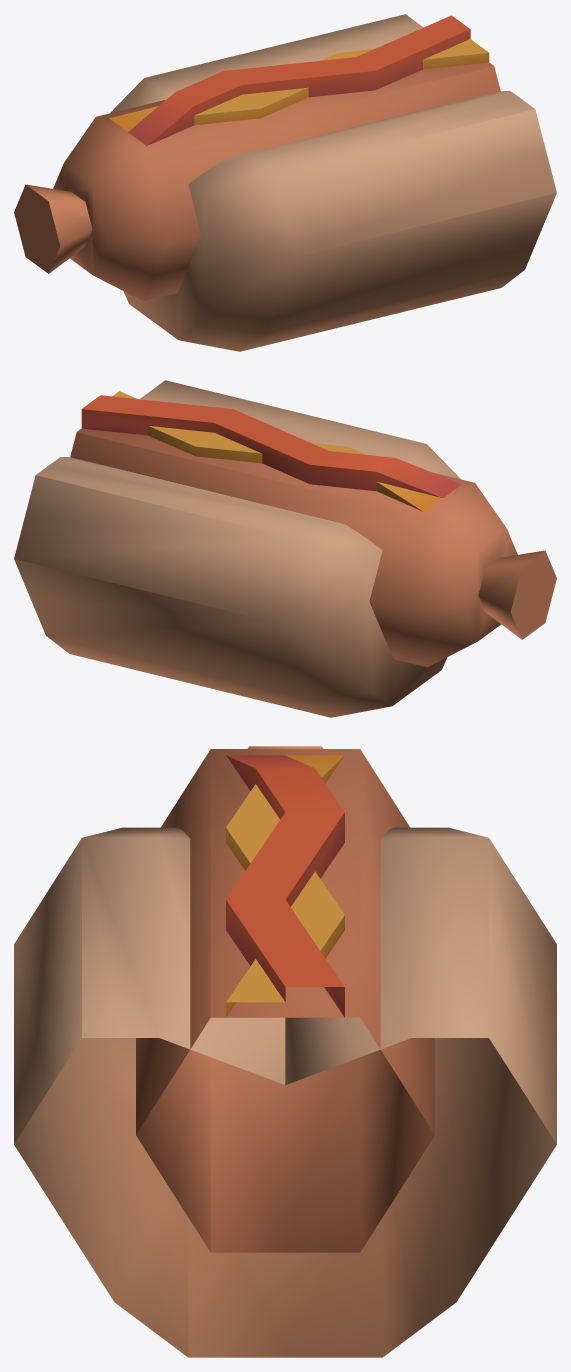
Rendered from half-hot-dog.glb.
The picture shows the model from 3 angles, top to bottom: view 1: azimuth 30°, elevation 25°; view 2: azimuth 150°, elevation 25°; view 3: azimuth 270°, elevation 25°; orthographic projection. The views are drawn at different scales.
Visible parts, largest first — view 1: half-hot-dog; view 2: half-hot-dog; view 3: half-hot-dog.
Boxes of the visible parts, left/top/right/bottom form: half-hot-dog: left=14, top=14, right=556, bottom=351; half-hot-dog: left=14, top=380, right=556, bottom=717; half-hot-dog: left=14, top=746, right=556, bottom=1357.
Size of the model in its own units: 0.26 by 0.1354 by 0.1798.
